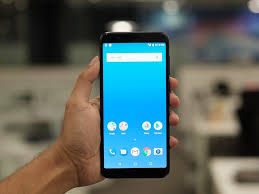asus: (96, 24, 174, 183)
